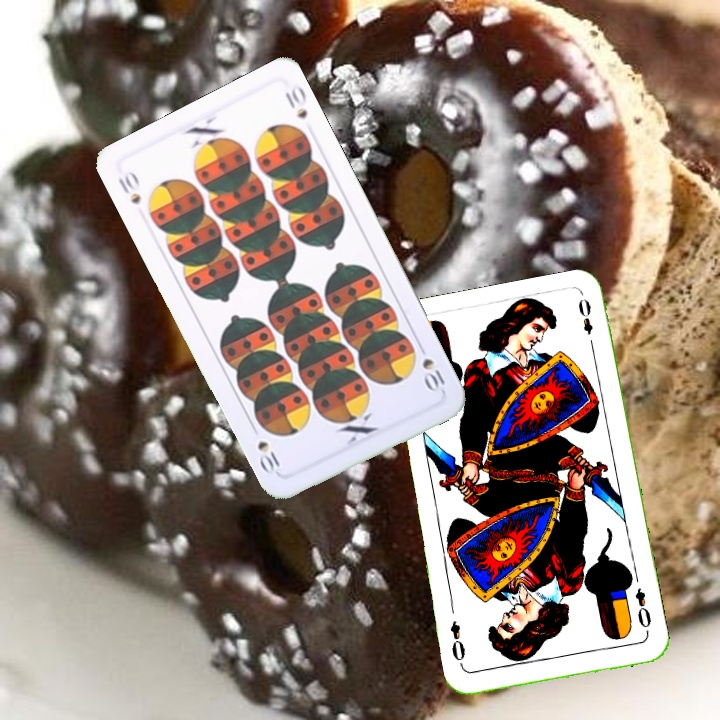EO: (631, 584, 654, 631)
S10: (414, 339, 448, 396), (114, 166, 144, 207)
